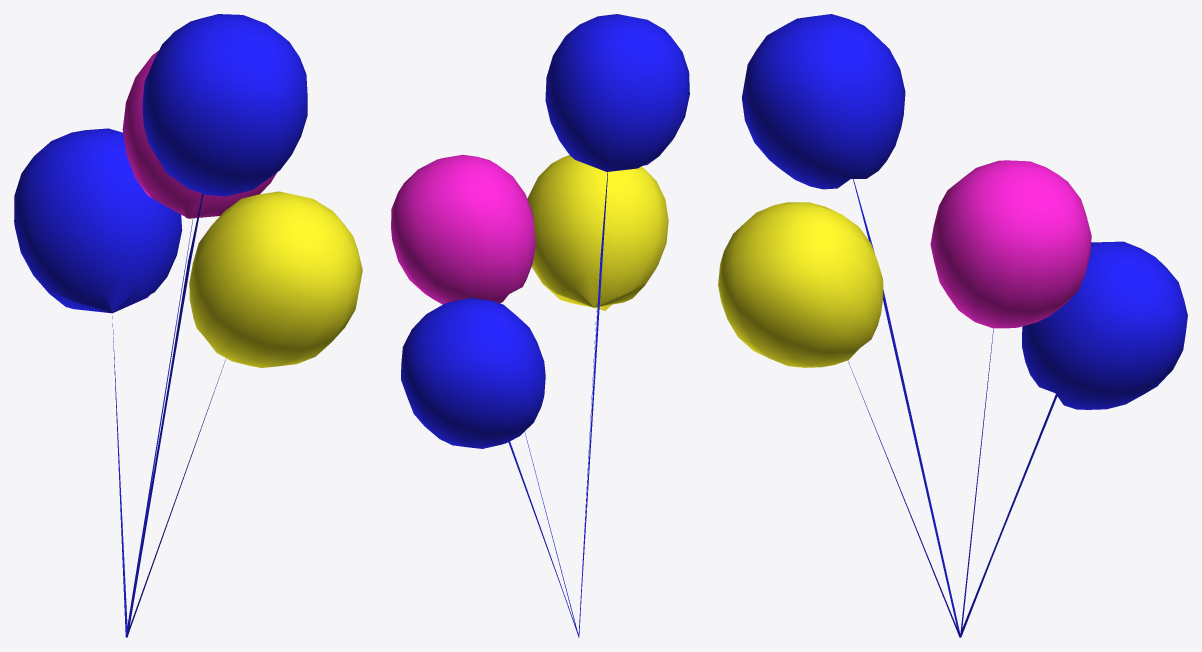
The model's file is bongbay.fbx.
3 views of the same model, side by side, from view 1: azimuth 30°, elevation 25°; view 2: azimuth 150°, elevation 25°; view 3: azimuth 270°, elevation 25° (orthographic). The views are drawn at different scales.
Visible parts, largest first — view 1: node_id8 (×4); view 2: node_id8 (×4); view 3: node_id8 (×4).
Part boxes in pixels (x1,y1,x2,y2): node_id8 (×4): (14,14,362,637); node_id8 (×4): (391,14,689,637); node_id8 (×4): (718,14,1187,637).
Size of the model in its own units: 0.1864 by 0.512 by 0.3475.
